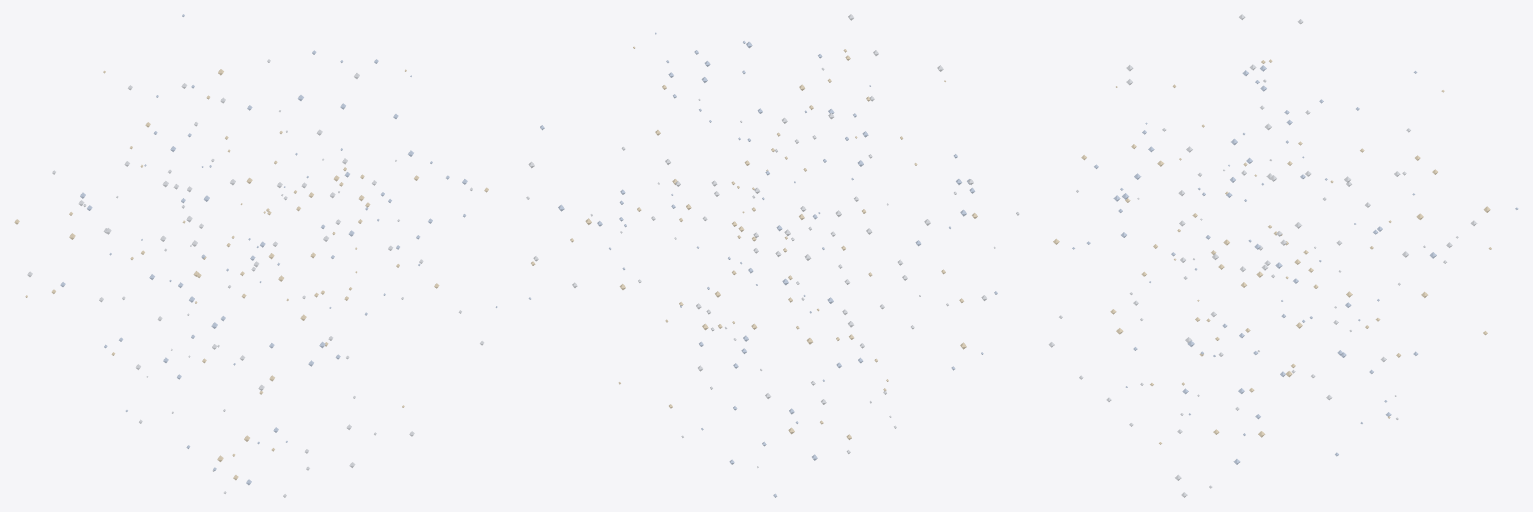
3 views of the same model, side by side, from view 1: azimuth 30°, elevation 25°; view 2: azimuth 150°, elevation 25°; view 3: azimuth 270°, elevation 25° (orthographic). The views are drawn at different scales.
Size of the model in its own units: 5.02 by 4.71 by 4.77.
